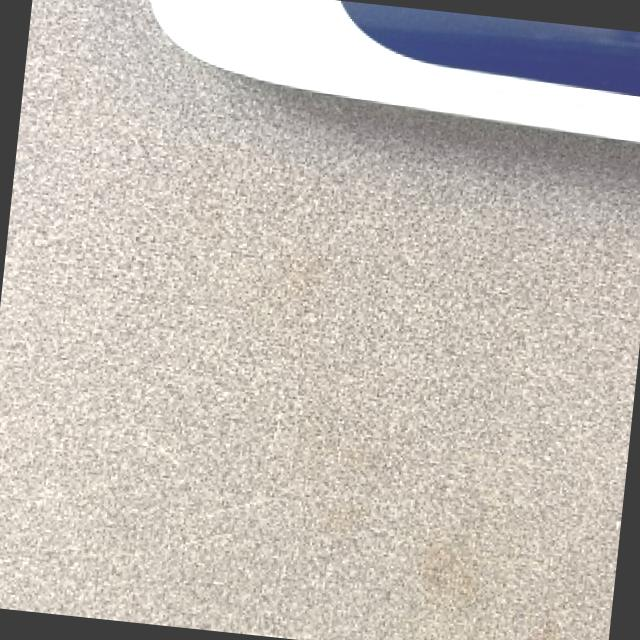healthy: (150, 0, 640, 140)
